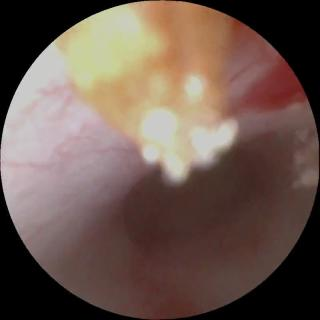stone: (55, 4, 238, 188)
tissue: (6, 32, 312, 313)
